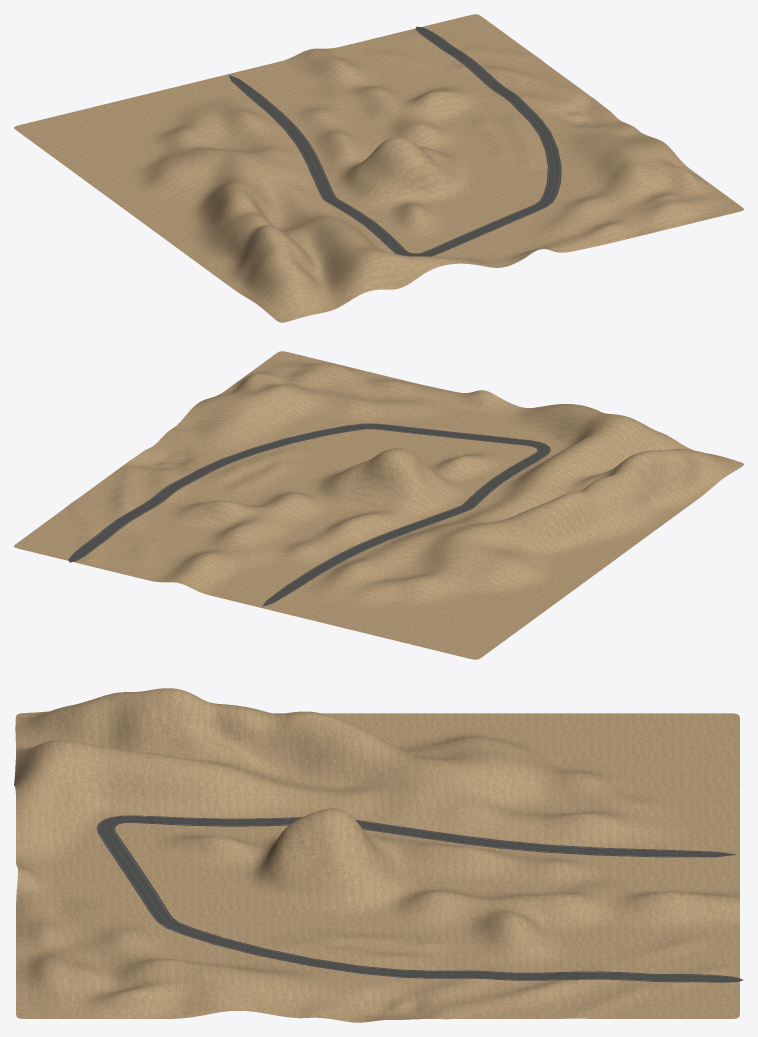
File: desert_landscape.glb
3 renders of one model, top to bottom at view 1: azimuth 30°, elevation 25°; view 2: azimuth 150°, elevation 25°; view 3: azimuth 270°, elevation 25°, orthographic. The views are drawn at different scales.
Parts seen in each view (by area): view 1: Object_4, Object_14; view 2: Object_4, Object_14; view 3: Object_4, Object_14.
Boxes of the visible parts, bbox=[...] form: Object_4: bbox=[14, 14, 743, 322]; Object_14: bbox=[229, 26, 561, 256]; Object_4: bbox=[14, 351, 743, 659]; Object_14: bbox=[68, 423, 550, 606]; Object_4: bbox=[14, 688, 739, 1022]; Object_14: bbox=[96, 815, 743, 982].
Size of the model in its own units: 151 by 14.57 by 152.
2 materials, 2 textured.
